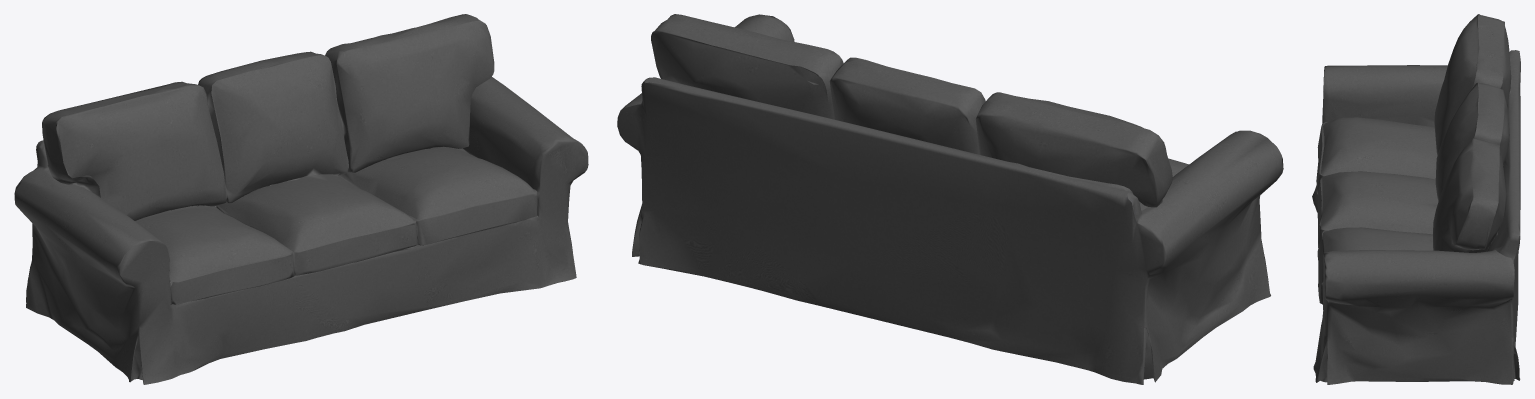
The picture shows the model from 3 angles, left to right: view 1: azimuth 30°, elevation 25°; view 2: azimuth 150°, elevation 25°; view 3: azimuth 270°, elevation 25°; orthographic projection. The views are drawn at different scales.
Visible parts, largest first — view 1: ProcessedMeshNode; view 2: ProcessedMeshNode; view 3: ProcessedMeshNode.
Boxes of the visible parts, x1=… form: ProcessedMeshNode: x1=14, y1=14, x2=588, y2=384; ProcessedMeshNode: x1=617, y1=14, x2=1283, y2=384; ProcessedMeshNode: x1=1312, y1=14, x2=1520, y2=384.
Size of the model in its own units: 2.19 by 0.9127 by 0.9264.
1 material, 1 textured.
